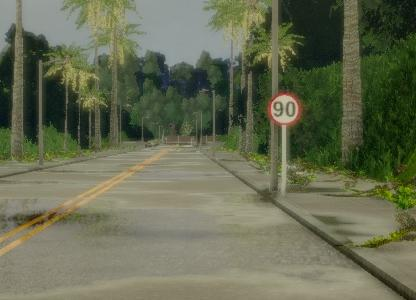Speed_90: (265, 88, 303, 129)
